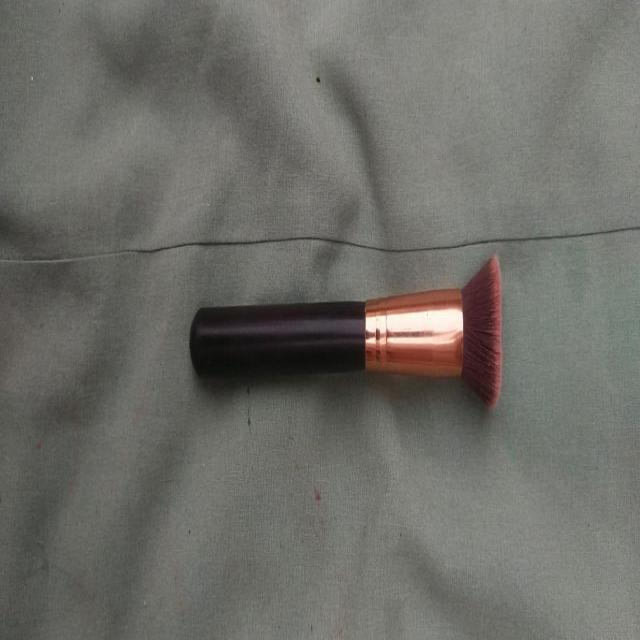brush: (172, 244, 534, 436)
